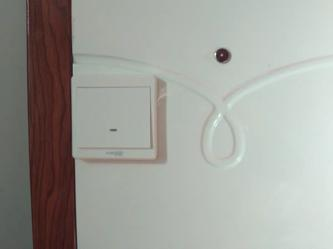switch: (73, 90, 152, 147)
